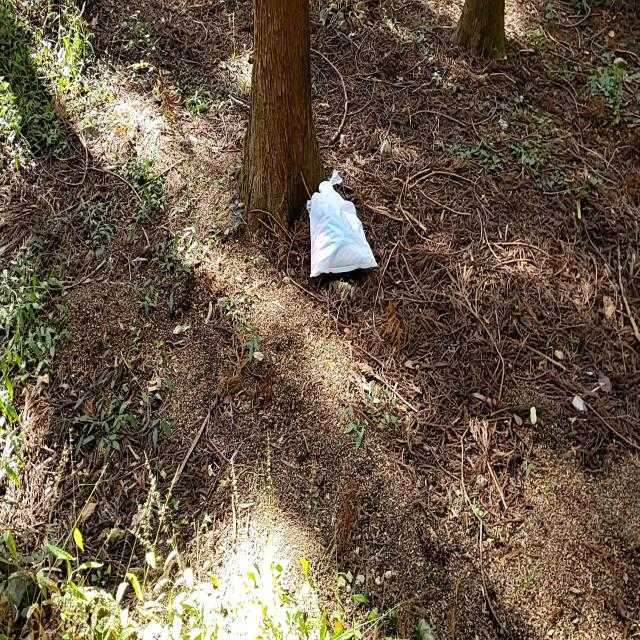garbage bag: (305, 170, 378, 280)
